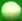white: (0, 0, 22, 21)
